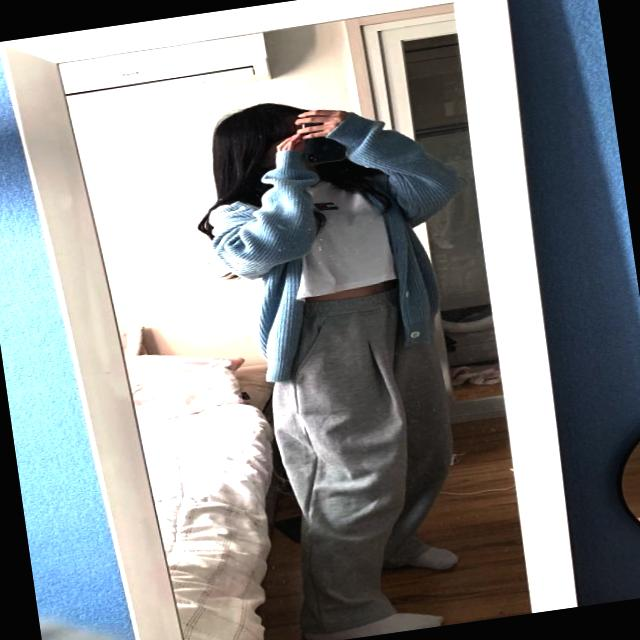cardigan: (188, 99, 484, 388)
trainingpants: (246, 276, 480, 637)
